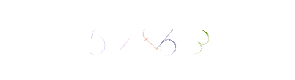3: (165, 0, 245, 80)
5: (107, 0, 187, 80)
B: (137, 0, 217, 80)
F: (136, 0, 216, 80)
I: (118, 0, 198, 80)
